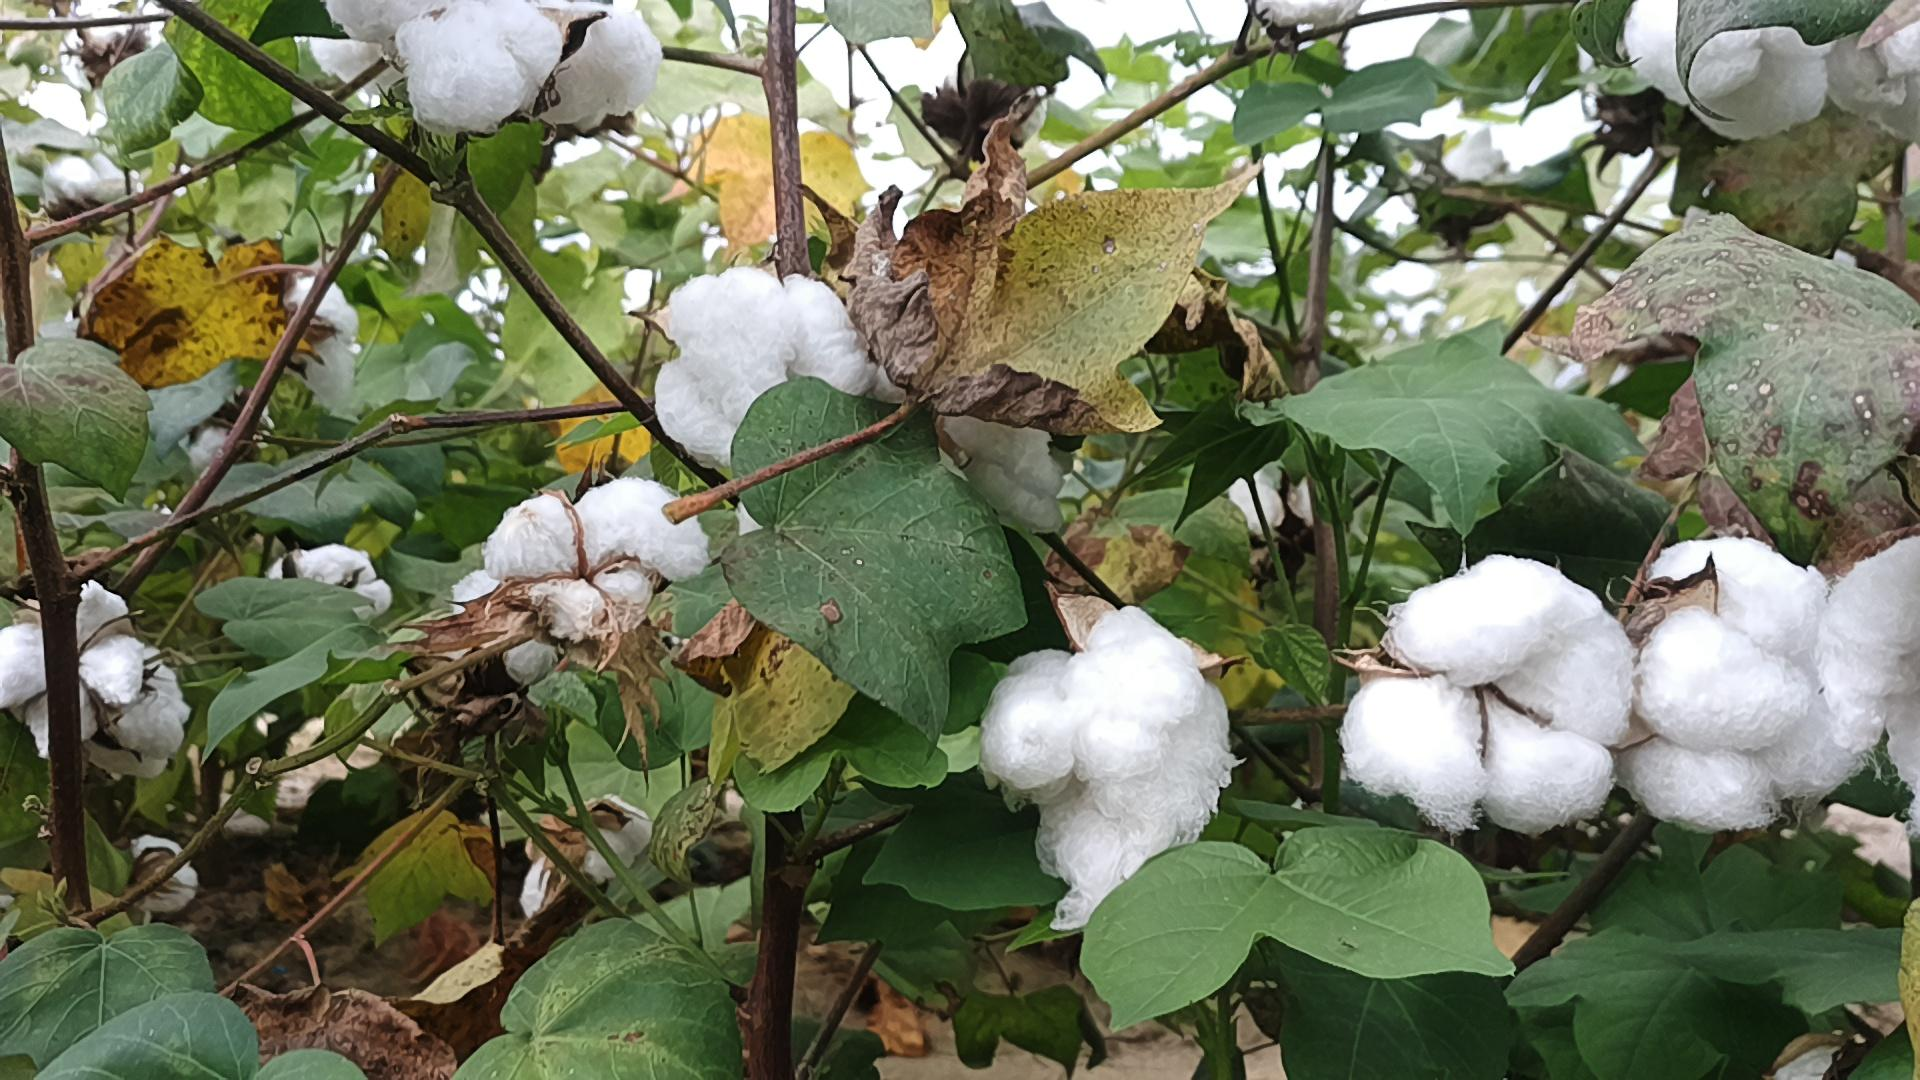cotton_ready: (1345, 553, 1634, 835), (988, 605, 1234, 932), (1635, 538, 1866, 837), (651, 270, 881, 465), (320, 0, 659, 125), (483, 476, 716, 634), (1825, 526, 1920, 851), (1626, 0, 1833, 141), (0, 575, 145, 757), (91, 646, 189, 775)
